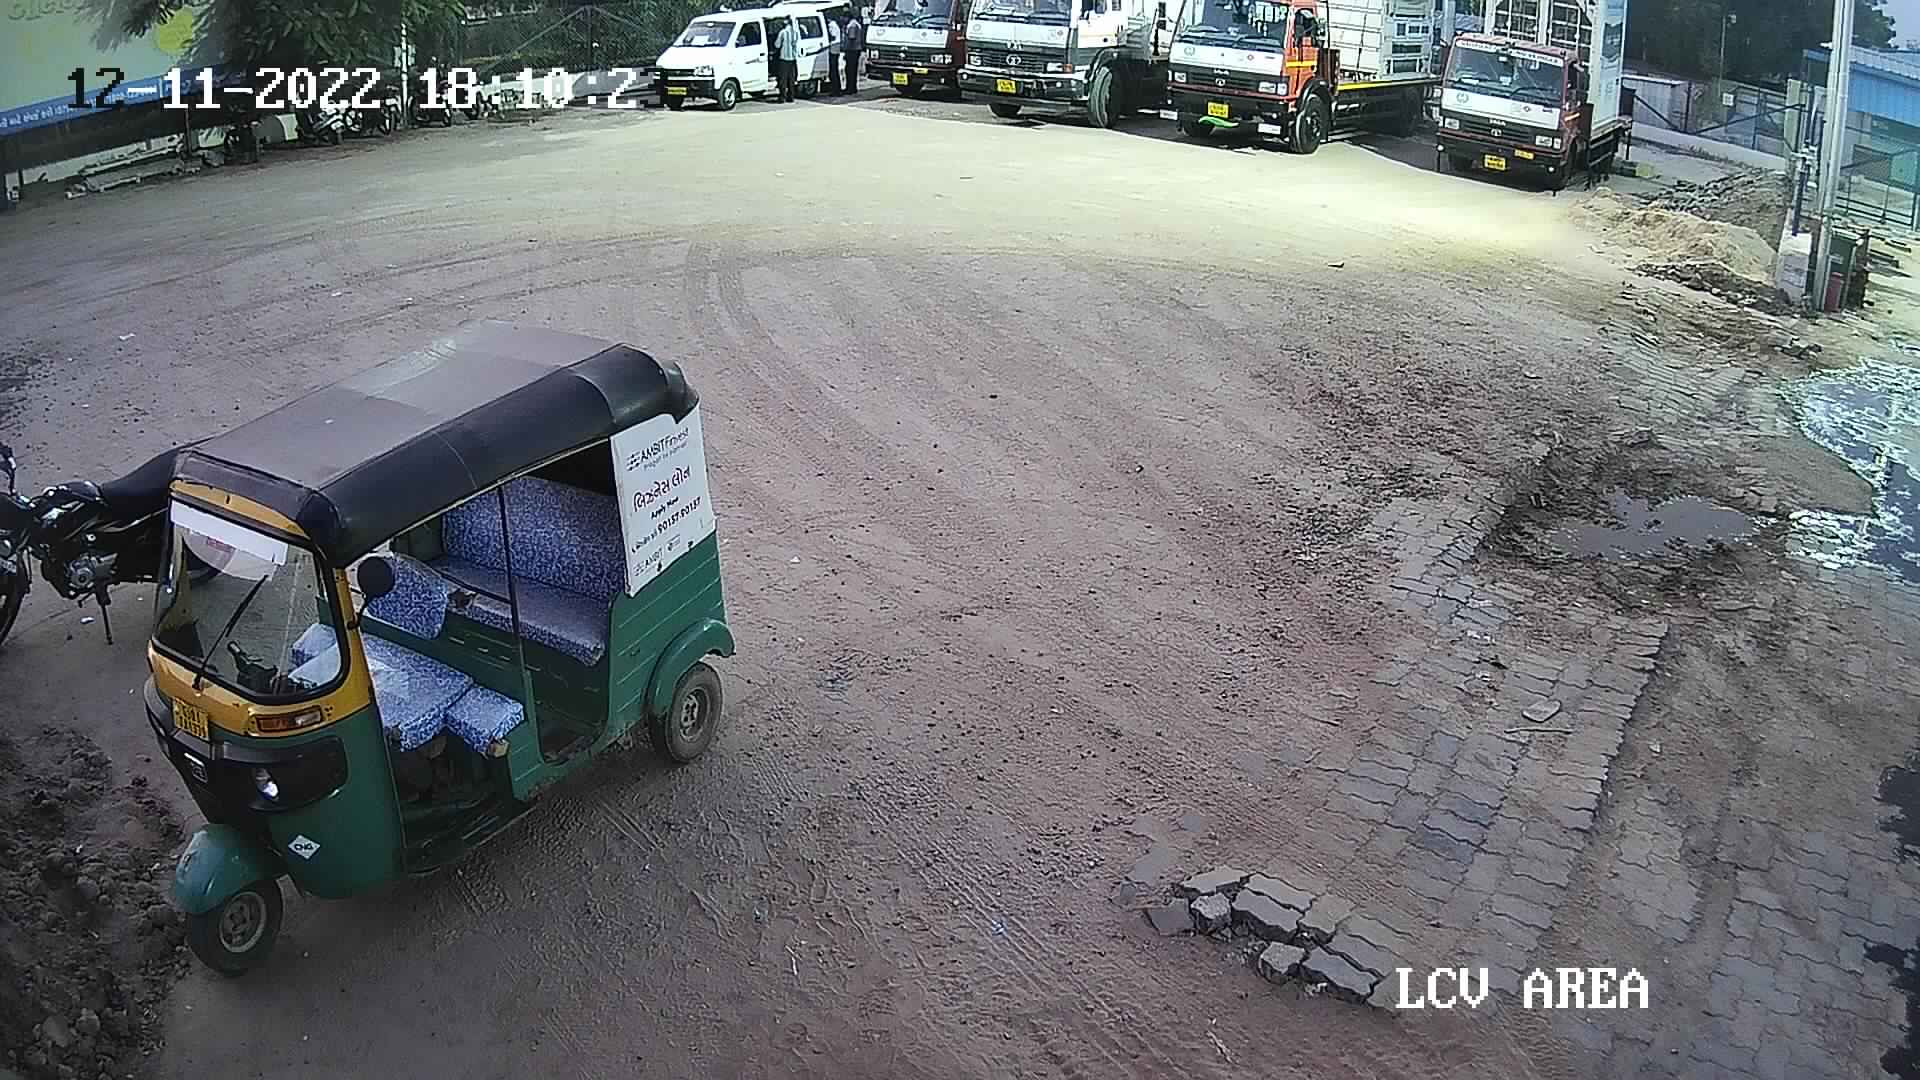Auto: (129, 305, 744, 986)
Bike: (0, 419, 219, 659)
Car: (641, 0, 848, 116)
HMV: (1138, 1, 1456, 161), (1414, 0, 1640, 191), (944, 1, 1185, 137), (851, 1, 975, 102)
